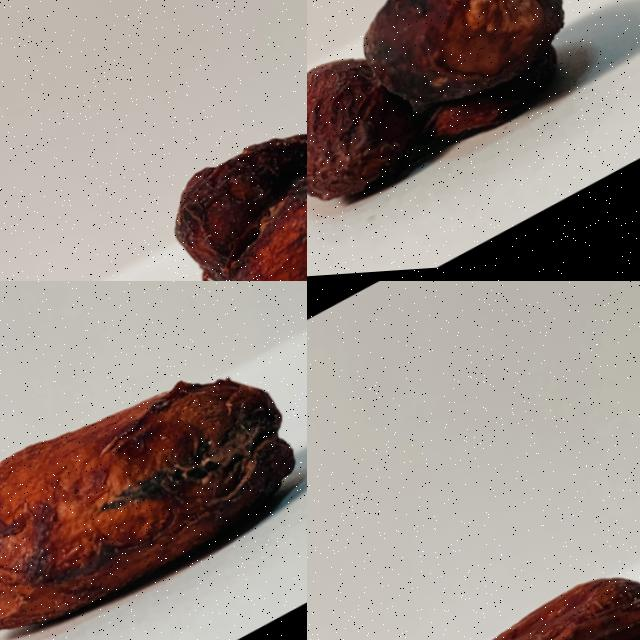Agglomerated_cocoabeans: (307, 0, 639, 280), (307, 432, 639, 639), (108, 0, 306, 280)
Fine_cocoabeans: (0, 281, 306, 639)
